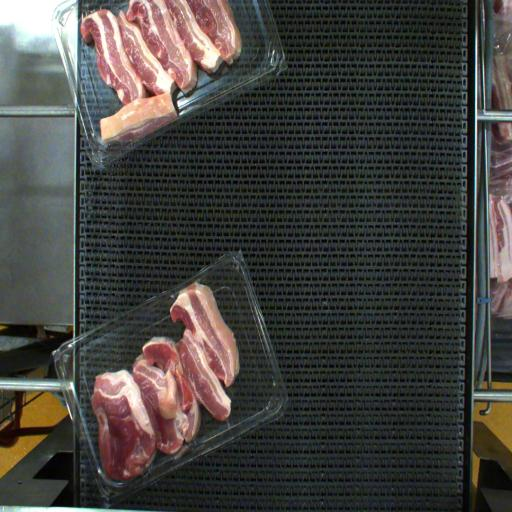packaging-error: (100, 458, 196, 476), (175, 279, 203, 313)
